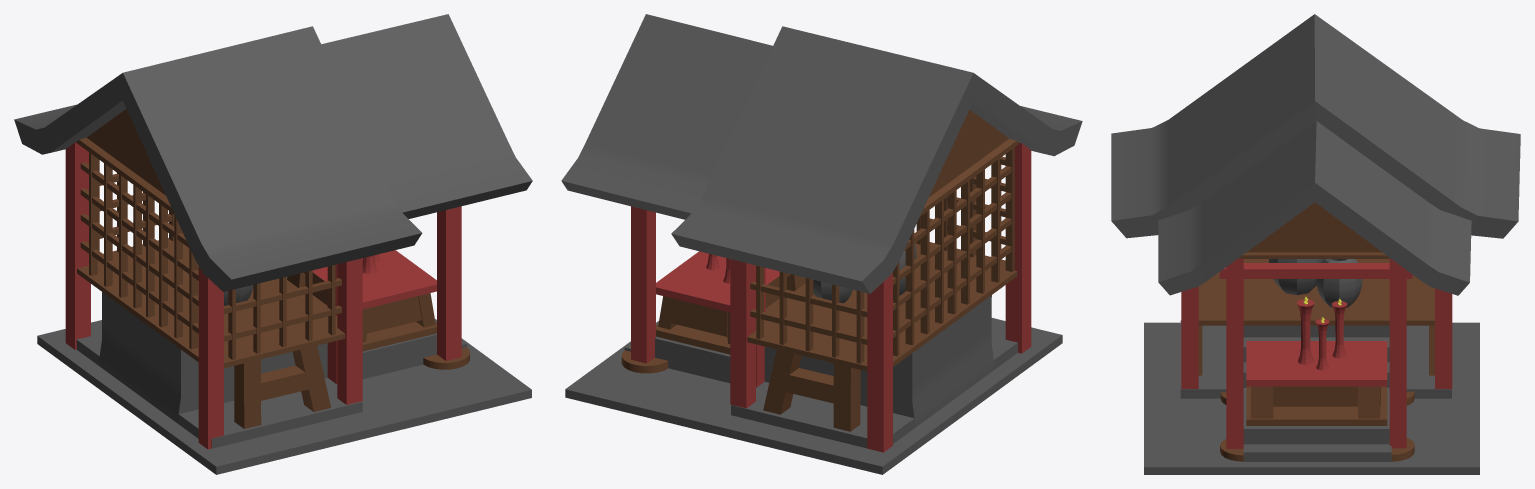
The model's file is shrineSmall.fbx.
3 views of the same model, side by side, from view 1: azimuth 30°, elevation 25°; view 2: azimuth 150°, elevation 25°; view 3: azimuth 270°, elevation 25° (orthographic). The views are drawn at different scales.
Visible parts, largest first — view 1: shrineSmall; view 2: shrineSmall; view 3: shrineSmall.
Boxes of the visible parts, left/top/right/bottom form: shrineSmall: left=14, top=14, right=532, bottom=474; shrineSmall: left=561, top=14, right=1082, bottom=474; shrineSmall: left=1111, top=14, right=1520, bottom=474.
Bounding box in the file's own units: 1.3 × 1.27 × 1.5.
